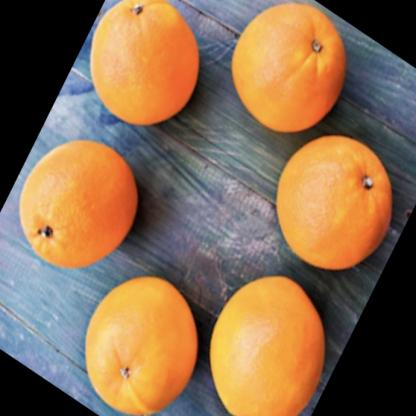fresh: (20, 1, 396, 416)
